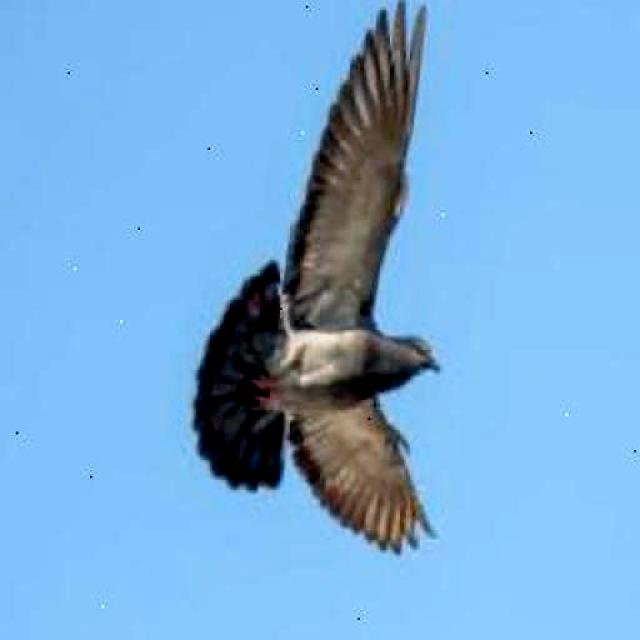airplane: (174, 0, 494, 556)
